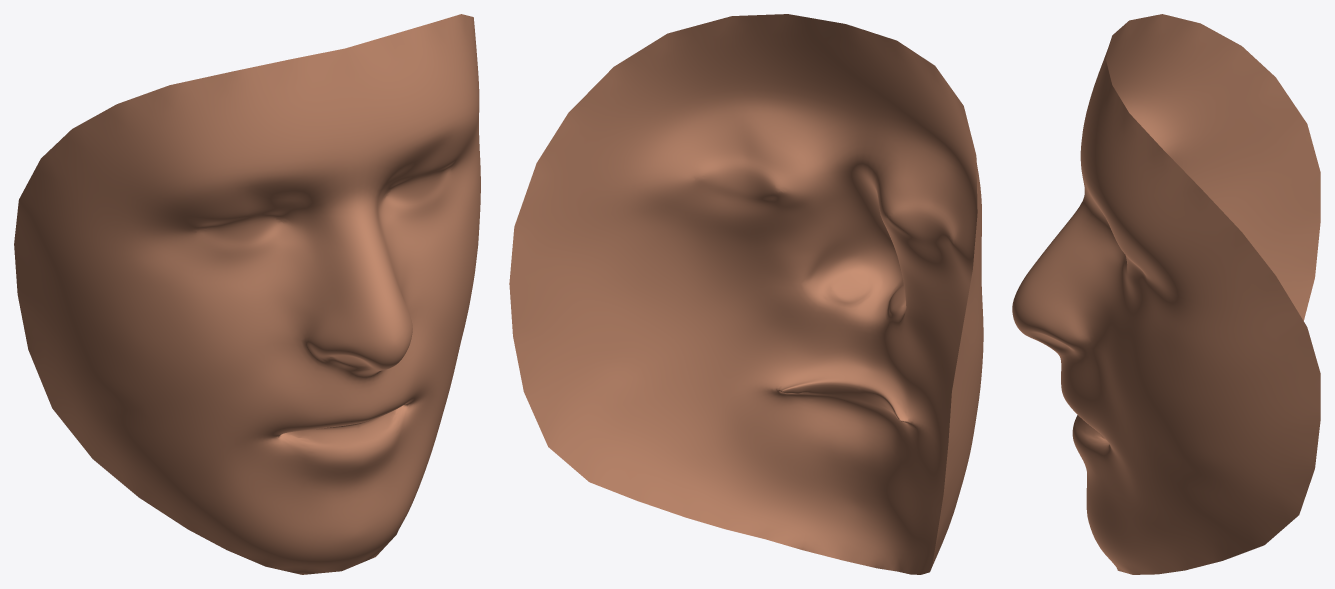
3 renders of one model, left to right at view 1: azimuth 30°, elevation 25°; view 2: azimuth 150°, elevation 25°; view 3: azimuth 270°, elevation 25°, orthographic. The views are drawn at different scales.
Parts seen in each view (by area): view 1: Canonical facial surface; view 2: Canonical facial surface; view 3: Canonical facial surface.
Part boxes in pixels (box(x1,y1,x2,y2)): Canonical facial surface: box(14, 14, 480, 574); Canonical facial surface: box(509, 14, 983, 574); Canonical facial surface: box(1012, 14, 1320, 574).
Bounding box in the file's own units: 2.45 × 2.8 × 1.57.
